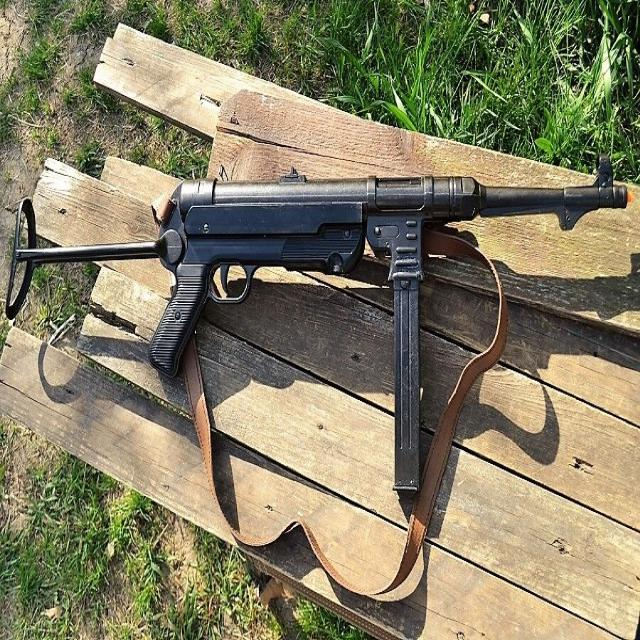SMG: (3, 158, 629, 494)
